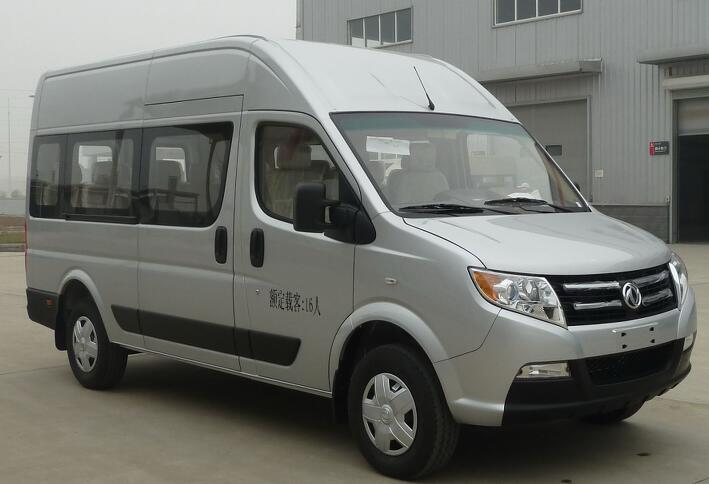midcar: (8, 29, 694, 449)
